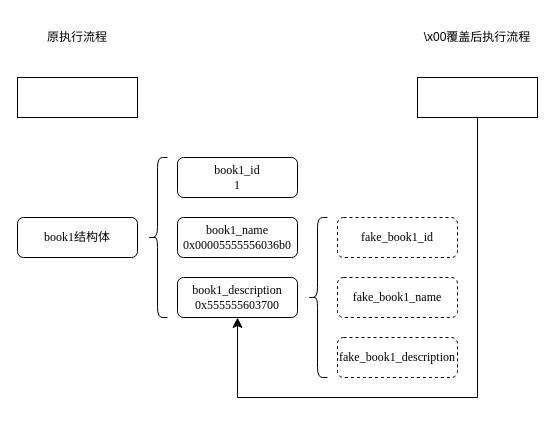
The diagram is 555 pixels wide and 425 high, and some of its shapes have lost their labels. Each missing label, with the box of its shape:
book1结构体指针 0x555555603700: (416, 76, 538, 118)
book1结构体指针 0x555555603730: (16, 76, 138, 118)
